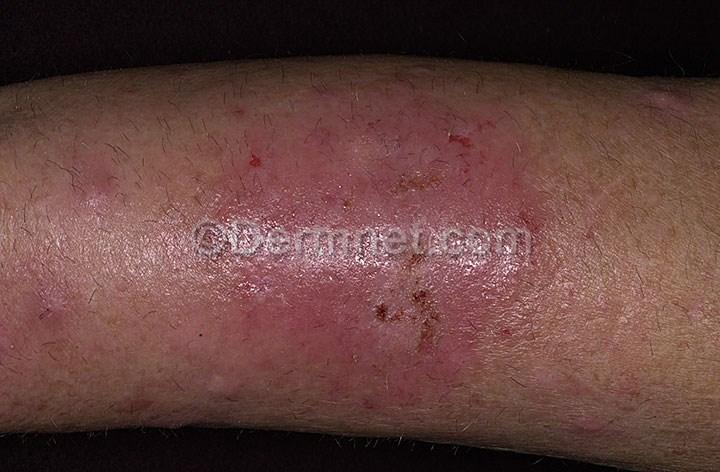Eczema: (197, 84, 577, 425), (17, 249, 129, 366), (50, 131, 166, 227), (619, 67, 718, 137)
